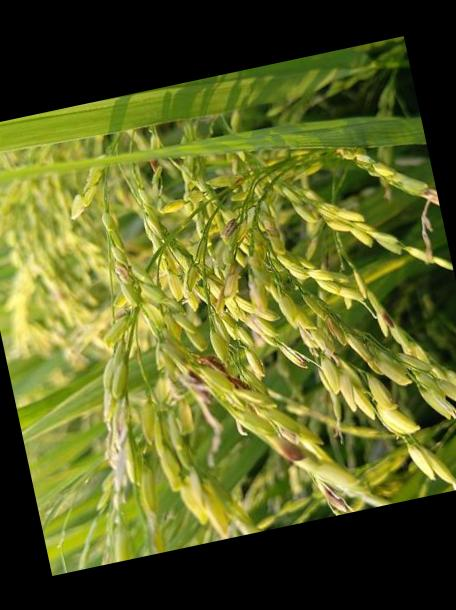Panicle Blight: (325, 313, 384, 369), (198, 354, 253, 390), (176, 367, 217, 404), (316, 477, 354, 513), (273, 420, 306, 460), (220, 269, 237, 300), (222, 216, 241, 237), (380, 302, 397, 324), (115, 260, 130, 281), (424, 187, 440, 204), (148, 156, 162, 172)
